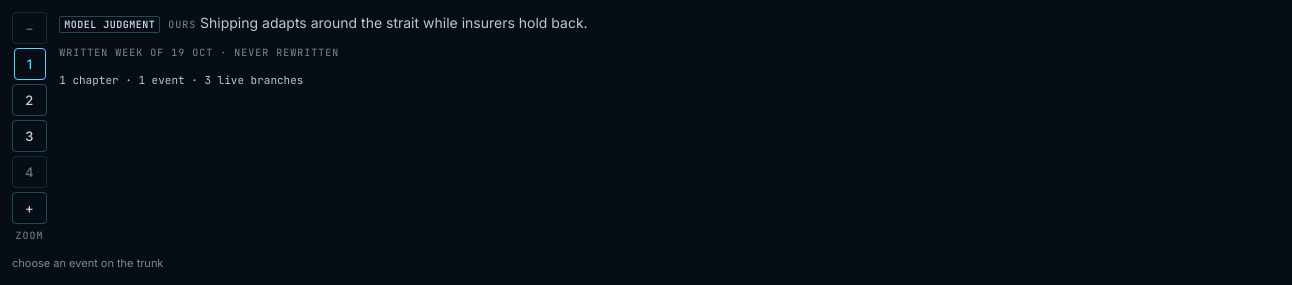
Test: story tree zoom ladder › a story whose reading carries no week shows no stamp
Click the button named "Level 2,": (30, 100) [12,84,47,116]
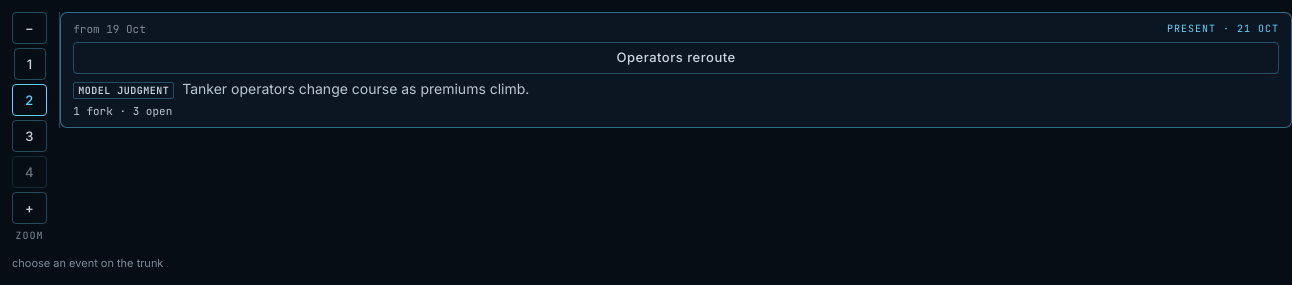
Expected: the button "Operators reroute" is shown, [73,42,1279,74]
Expected: the text "never rewritten" is gone
